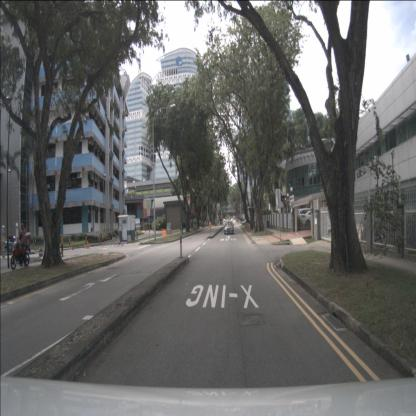cone: (86, 240, 90, 249), (72, 241, 74, 250)
